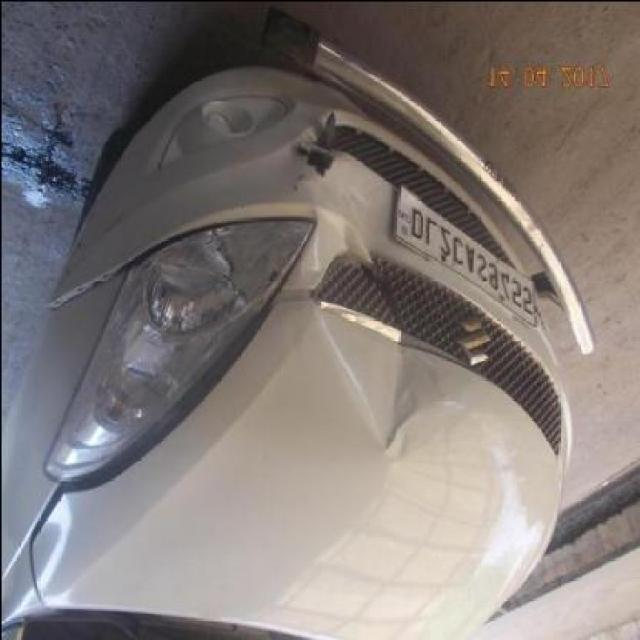damage: (319, 308, 464, 453), (314, 171, 389, 287), (294, 144, 336, 177)
